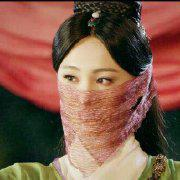OK: (58, 65, 132, 139)
